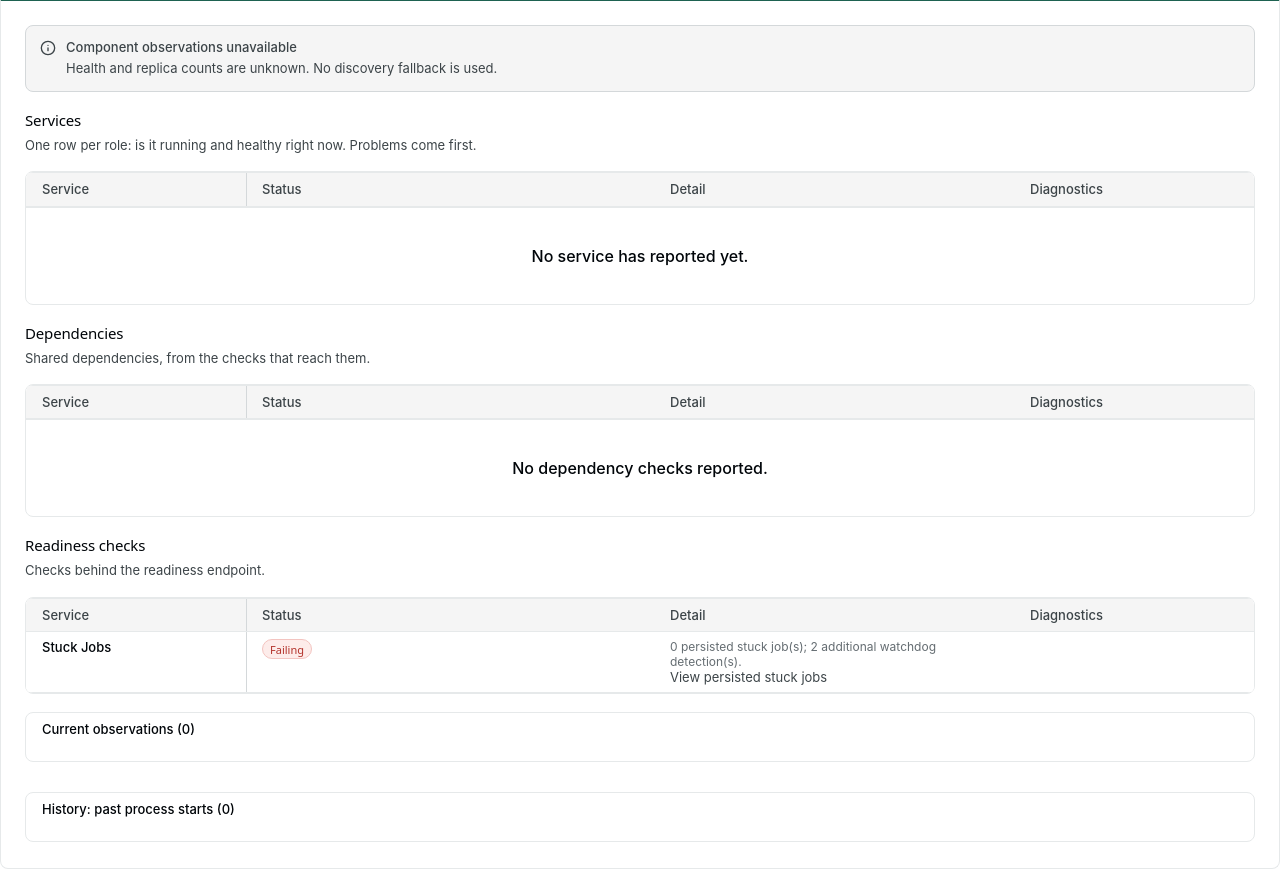
Test: Monitoring stuck job navigation › keeps the persisted-stuck filter on an empty queue instead of treating watchdog detections as persisted jobs
(page scrolled)
Step 1. Click the link "View persisted stuck jobs" → (749, 677), box [670, 669, 827, 685]
(page scrolled)
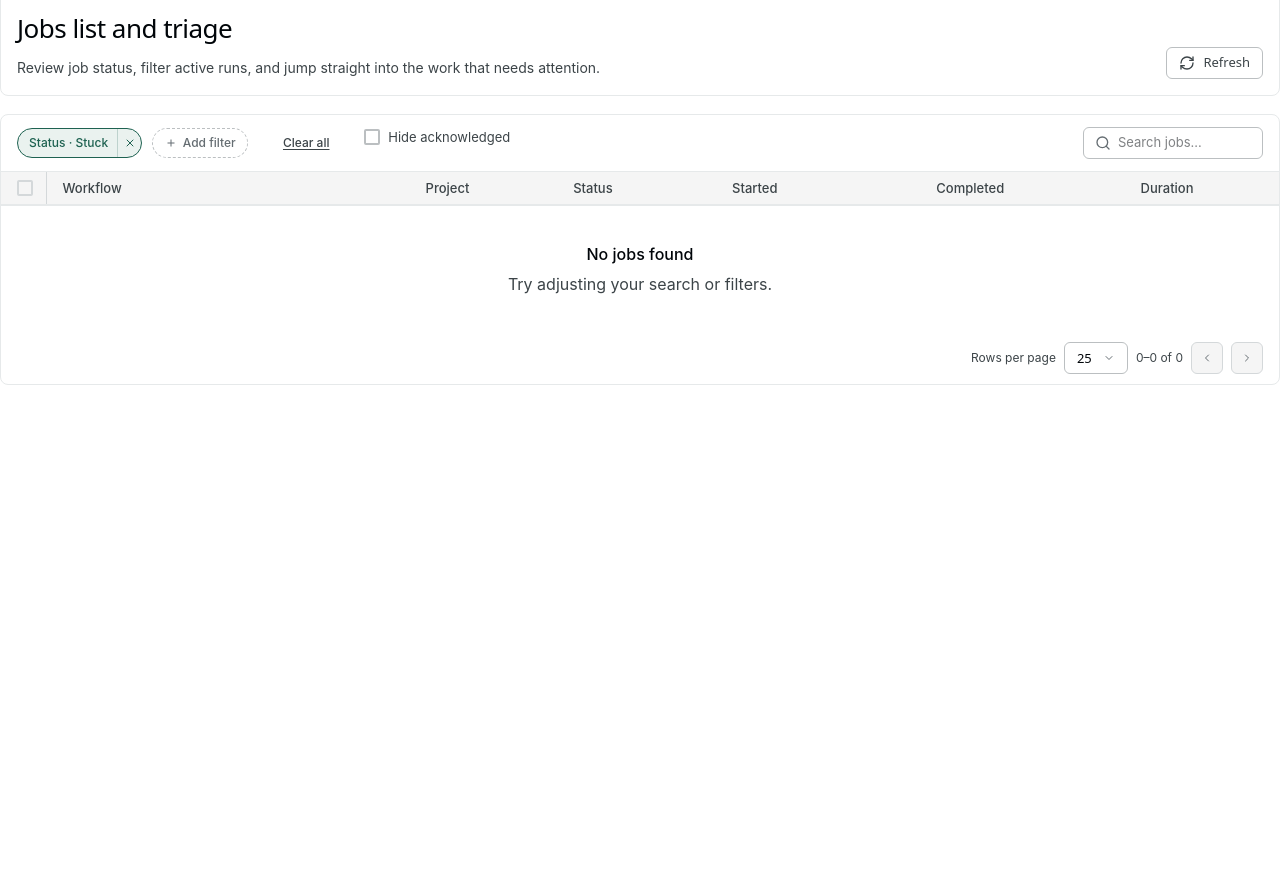
Check: the text "Status · Stuck" is shown, box [29, 135, 108, 150]
Check: the table named "Jobs" is shown, box [1, 172, 1279, 205]
